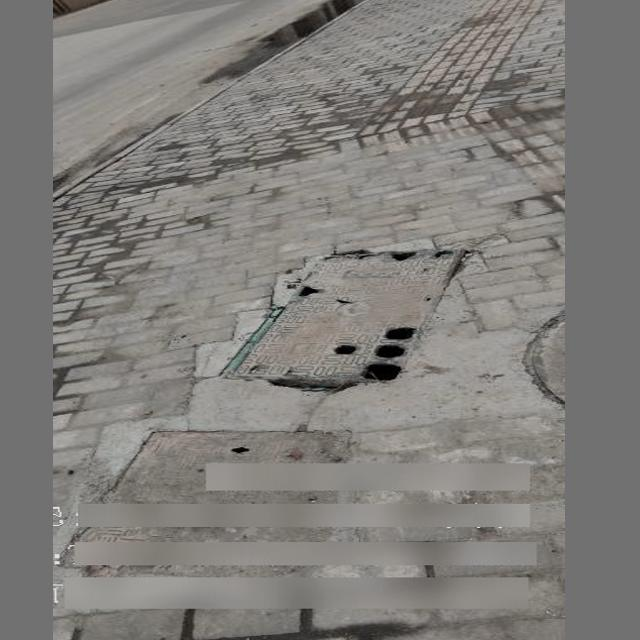broke: (215, 240, 477, 393)
